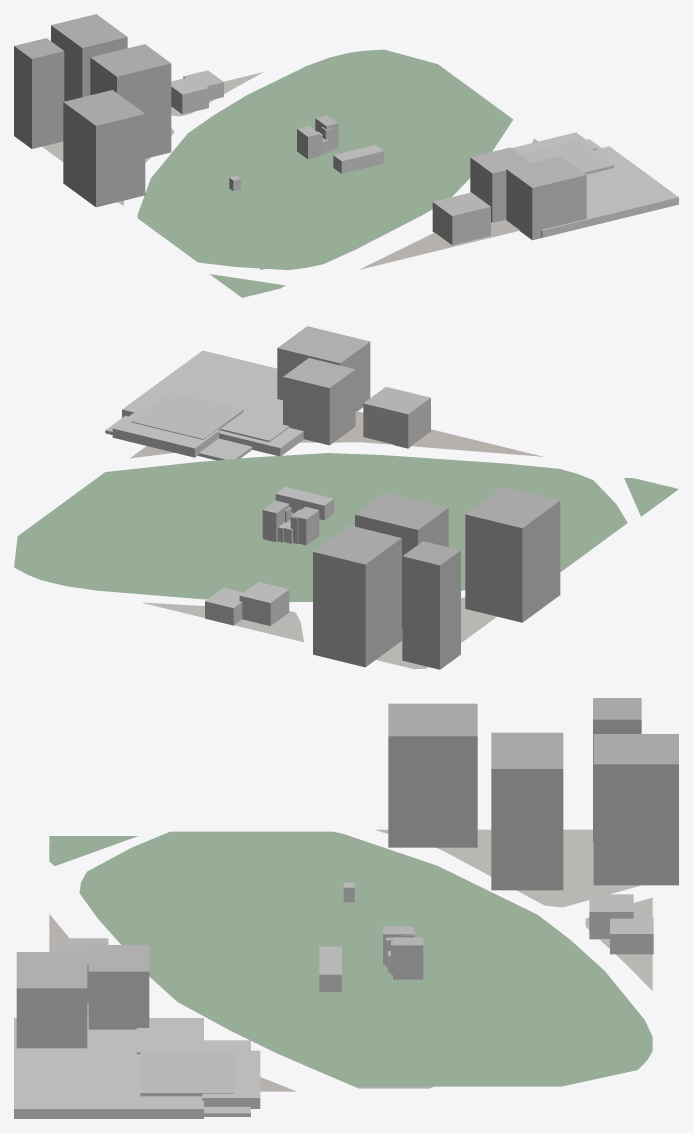
The model's file is 134_88_mid.glb.
3 views of the same model, one above another, from view 1: azimuth 30°, elevation 25°; view 2: azimuth 150°, elevation 25°; view 3: azimuth 270°, elevation 25° (orthographic). The views are drawn at different scales.
Size of the model in its own units: 582 by 121 by 551.
